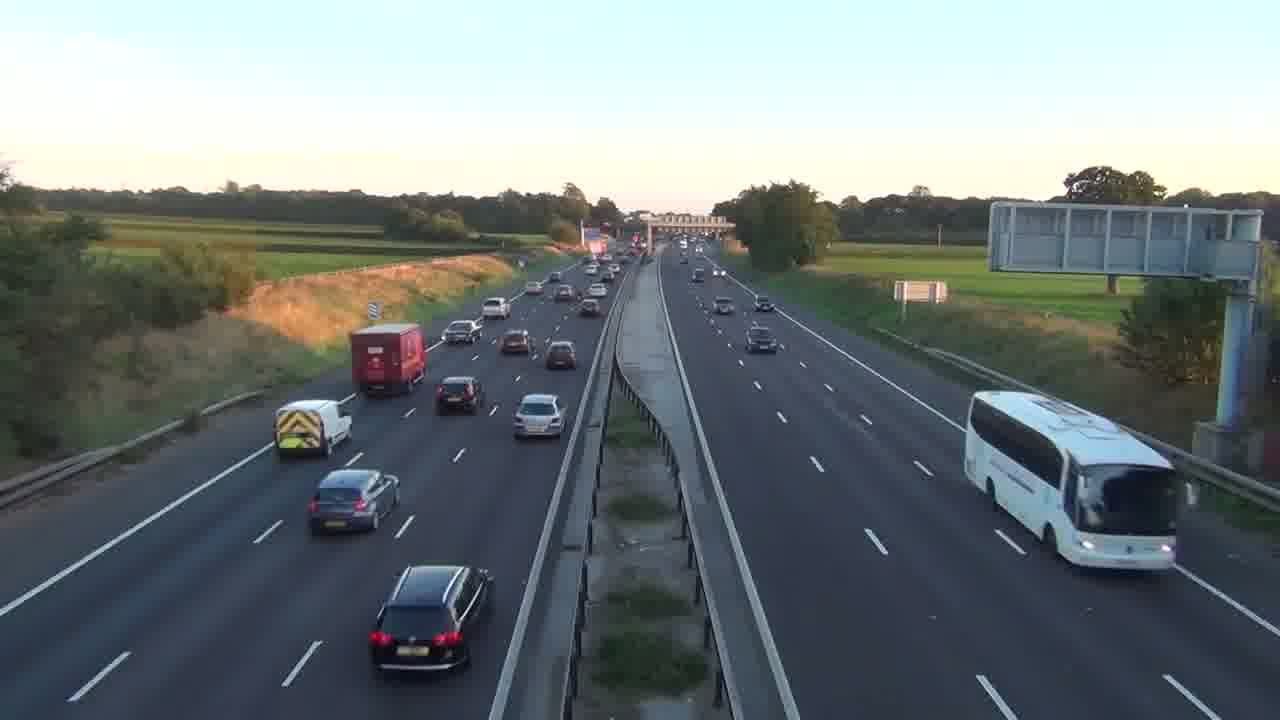bus: (961, 388, 1180, 572), (273, 398, 354, 457)
car: (368, 562, 495, 679), (305, 467, 401, 535), (513, 392, 565, 438), (435, 375, 482, 414), (544, 340, 577, 371), (744, 325, 779, 354), (498, 329, 532, 356), (753, 298, 774, 312)
truck: (351, 321, 427, 399), (273, 398, 354, 457)
